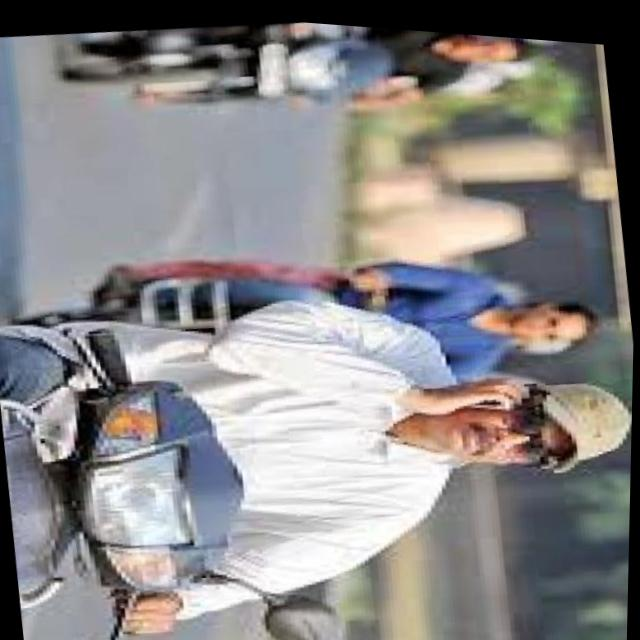USING_MOBILE: (210, 284, 535, 441)
